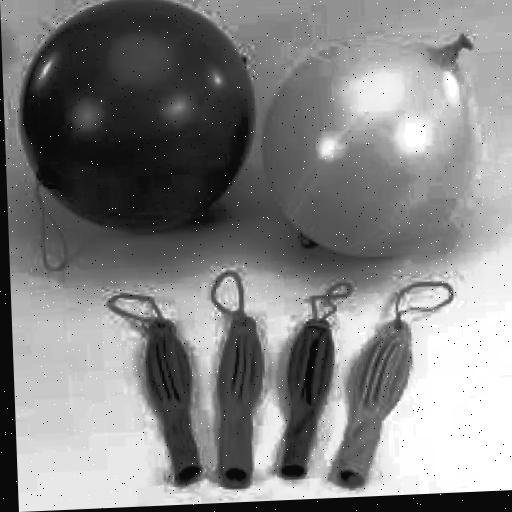balloon: (12, 0, 257, 240), (258, 22, 487, 264), (104, 287, 212, 489), (205, 268, 276, 491), (333, 288, 415, 474), (276, 279, 332, 484)
